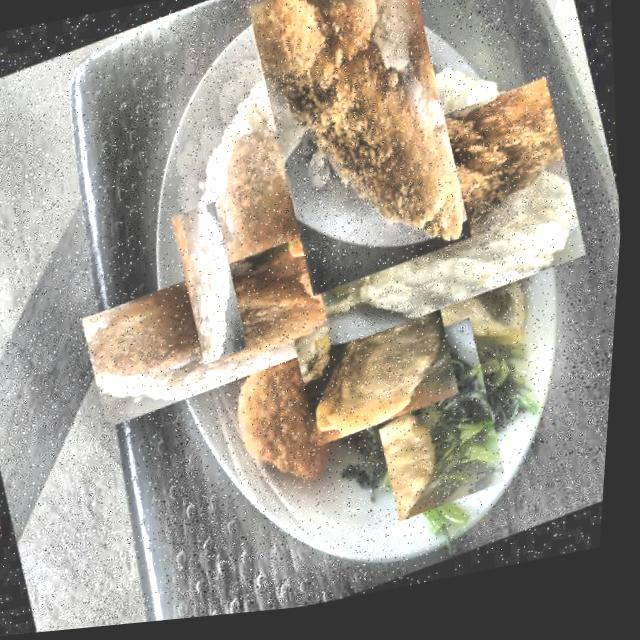Food: (115, 147, 438, 477), (292, 68, 593, 376), (229, 0, 492, 313), (346, 330, 536, 525), (294, 284, 468, 462), (164, 198, 262, 375)
